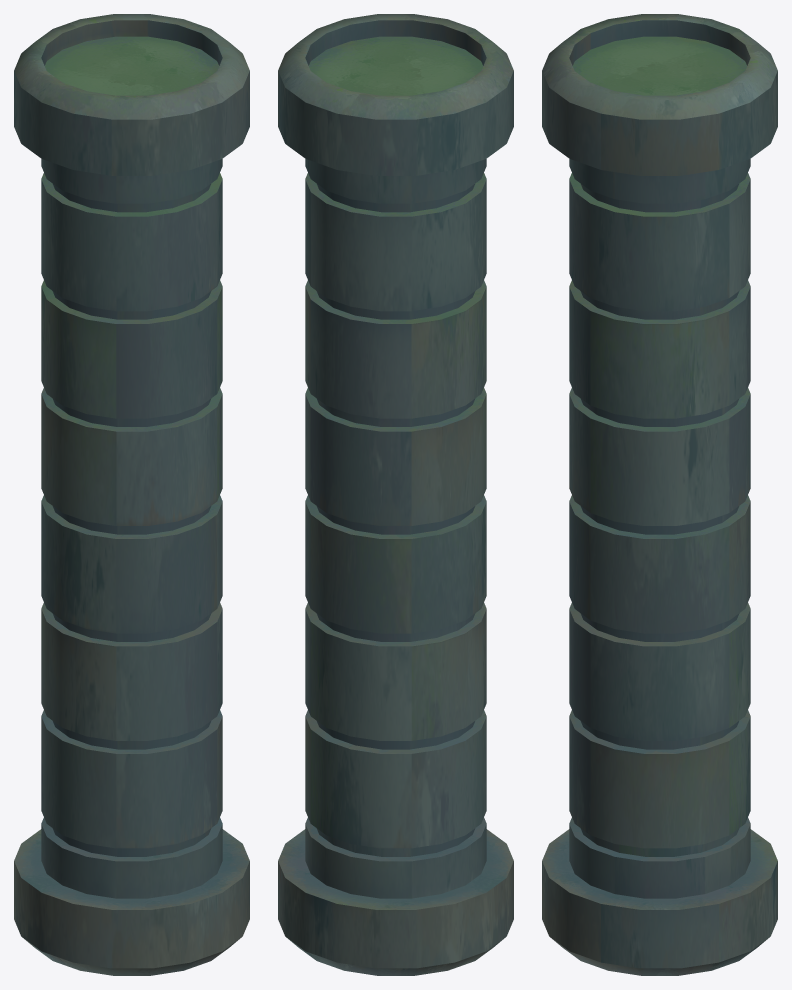
File: Pillar_Cylinder_01.fbx
3 views of the same model, side by side, from view 1: azimuth 30°, elevation 25°; view 2: azimuth 150°, elevation 25°; view 3: azimuth 270°, elevation 25° (orthographic).
Visible parts, largest first — view 1: Cylinder_Pillar_01; view 2: Cylinder_Pillar_01; view 3: Cylinder_Pillar_01.
Part boxes in pixels (x1,y1,x2,y2): Cylinder_Pillar_01: (14,14,249,975); Cylinder_Pillar_01: (278,14,513,975); Cylinder_Pillar_01: (542,14,777,975).
Size of the model in its own units: 256 by 1065 by 260.
